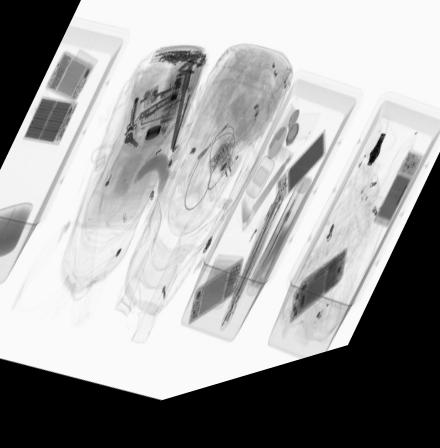Powerbank: (274, 144, 325, 225), (20, 94, 79, 149)
